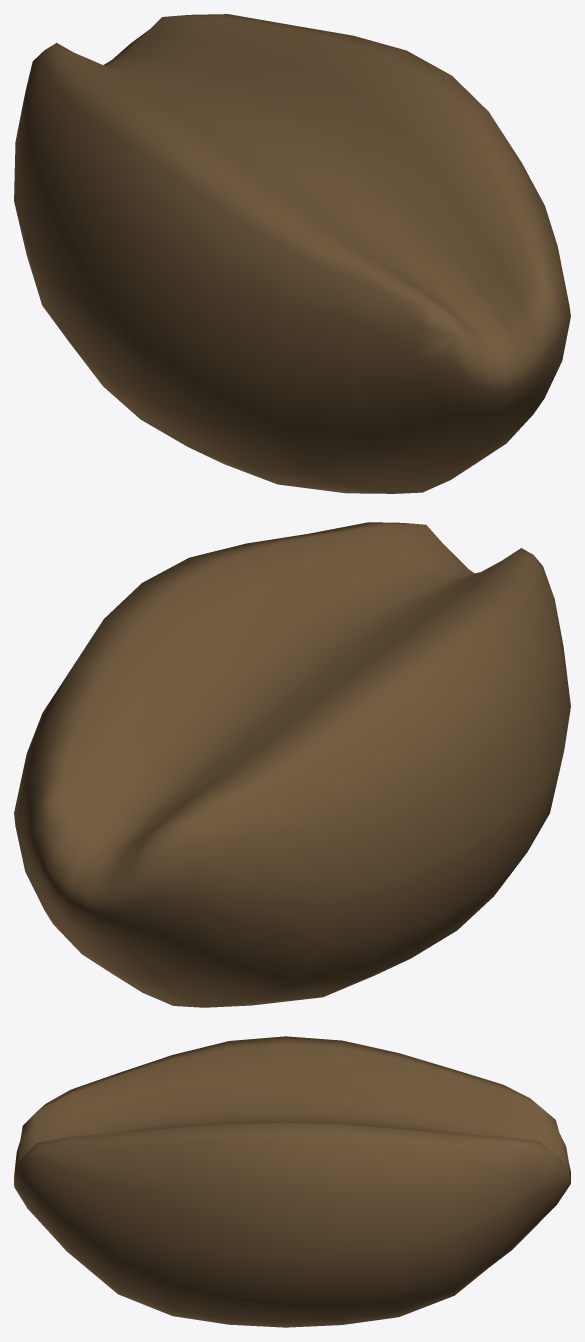
The model's file is CoffeeBean.fbx.
The picture shows the model from 3 angles, top to bottom: view 1: azimuth 30°, elevation 25°; view 2: azimuth 150°, elevation 25°; view 3: azimuth 270°, elevation 25°; orthographic projection. The views are drawn at different scales.
Visible parts, largest first — view 1: bean1; view 2: bean1; view 3: bean1.
Part boxes in pixels (x1=…): bean1: x1=14, y1=14, x2=570, y2=493; bean1: x1=14, y1=522, x2=570, y2=1007; bean1: x1=14, y1=1036, x2=570, y2=1327.
Size of the model in its own units: 0.122 by 0.0946 by 0.2095.
